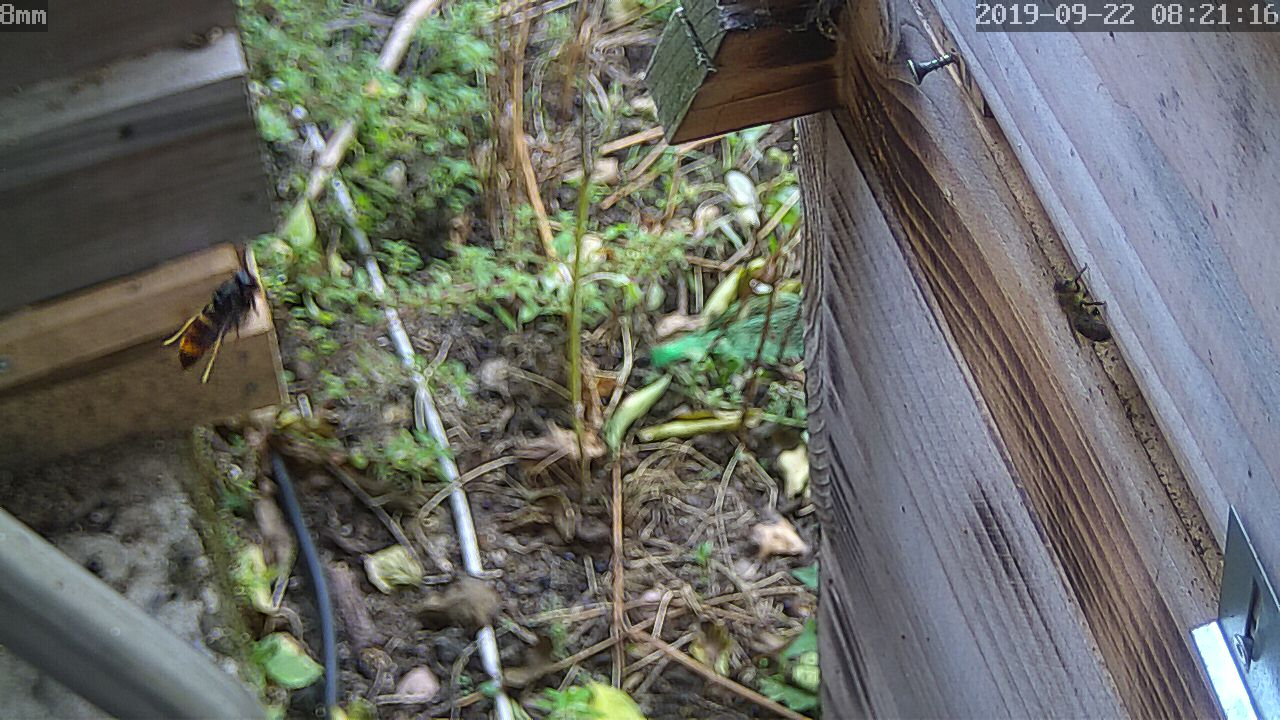bee: (1051, 276, 1125, 358)
hornet: (162, 270, 266, 378)
